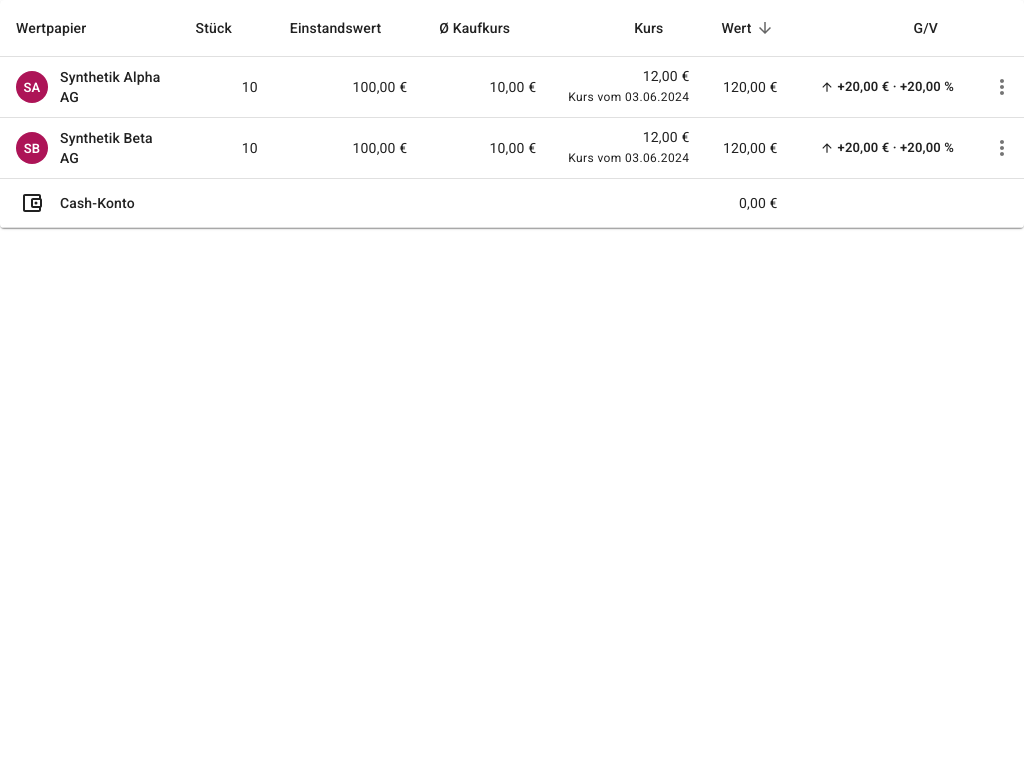
Test: SplitDialog › shows a delete failure in an Alert
The image size is (1024, 768).
Click the button named "Aktionen für Synthetik Alpha AG" at (1002, 87), box [980,65,1023,109]
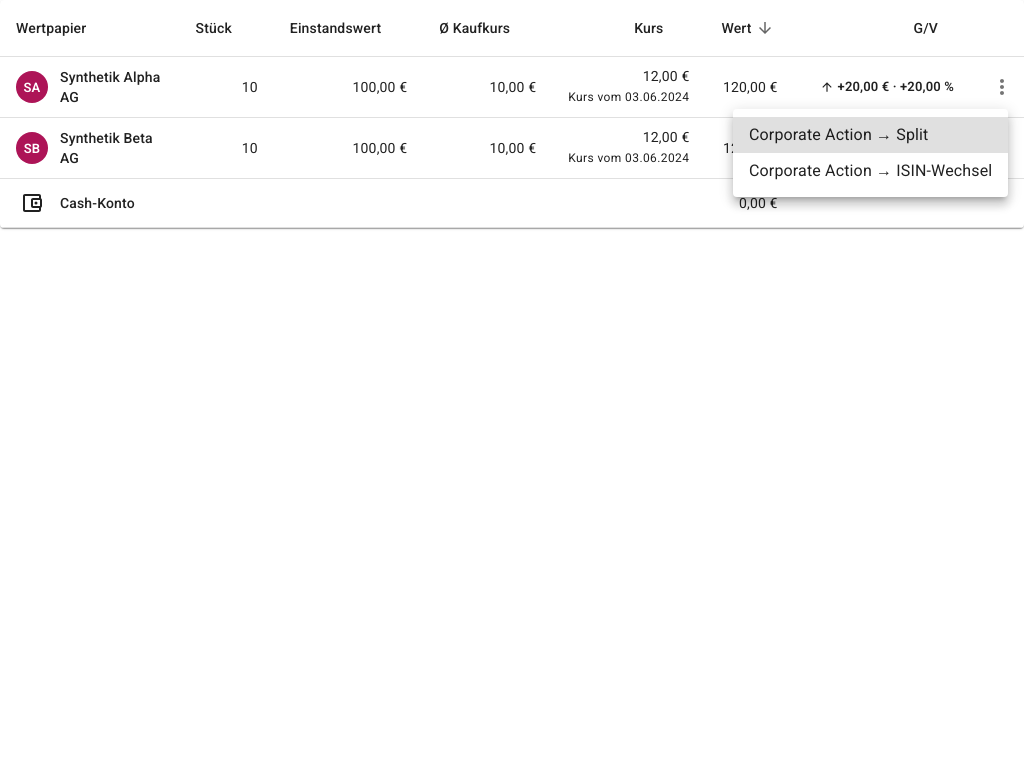
Click the menu item "Corporate Action → Split" at (871, 135), box [733,117,1008,153]
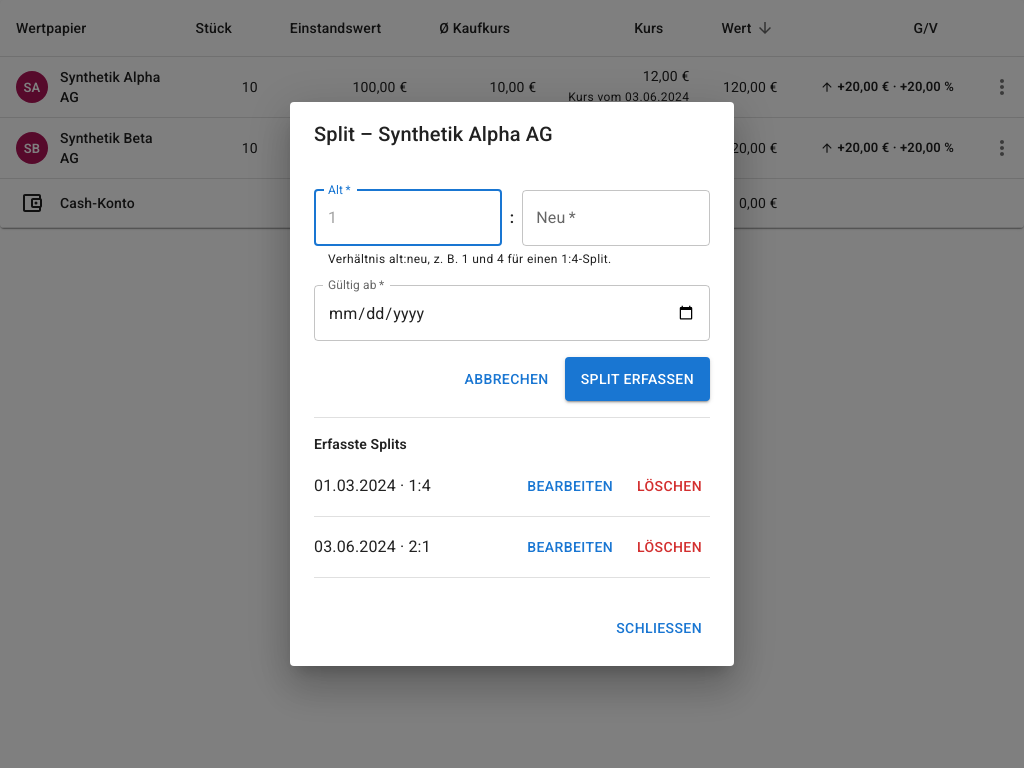
Click the button with aria-label "Split vom 01.03.2024 (1:4) löschen" at (670, 486), box [629,464,710,508]
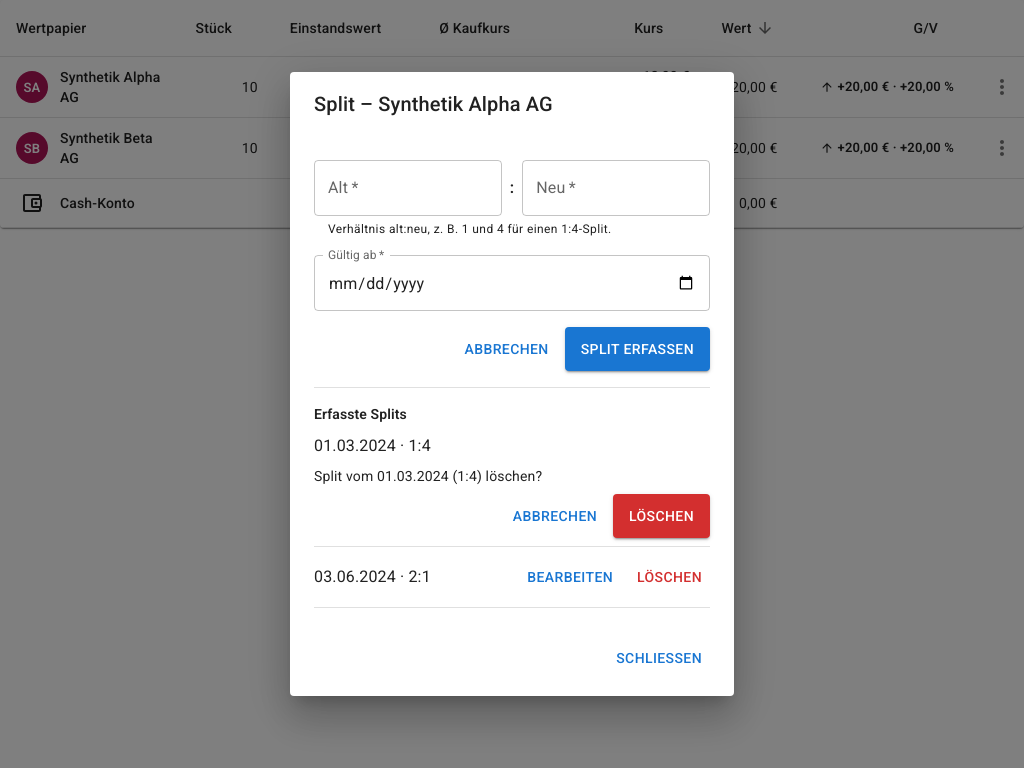
Click the button "Löschen" below "Split vom 01.03.2024 (1:4)" at (662, 516), box [613,494,710,538]
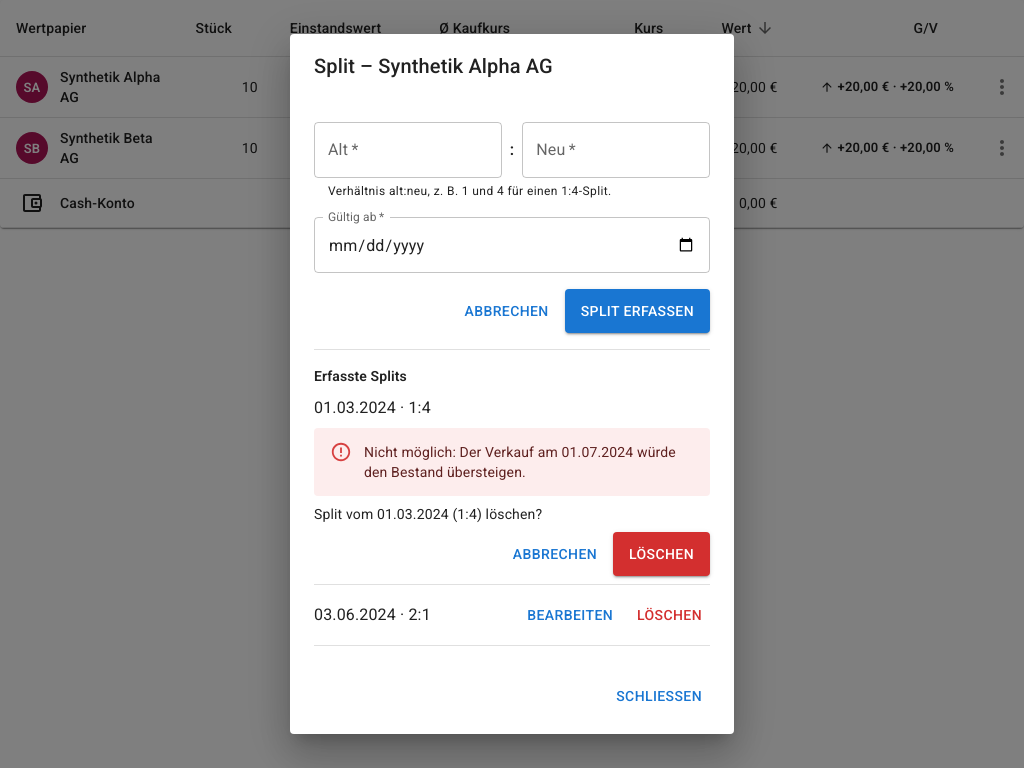
Expected: the message reads "Nicht möglich: Der Verkauf am 01.07.2024 würde den Bestand übersteigen.", [364,444,676,480]
